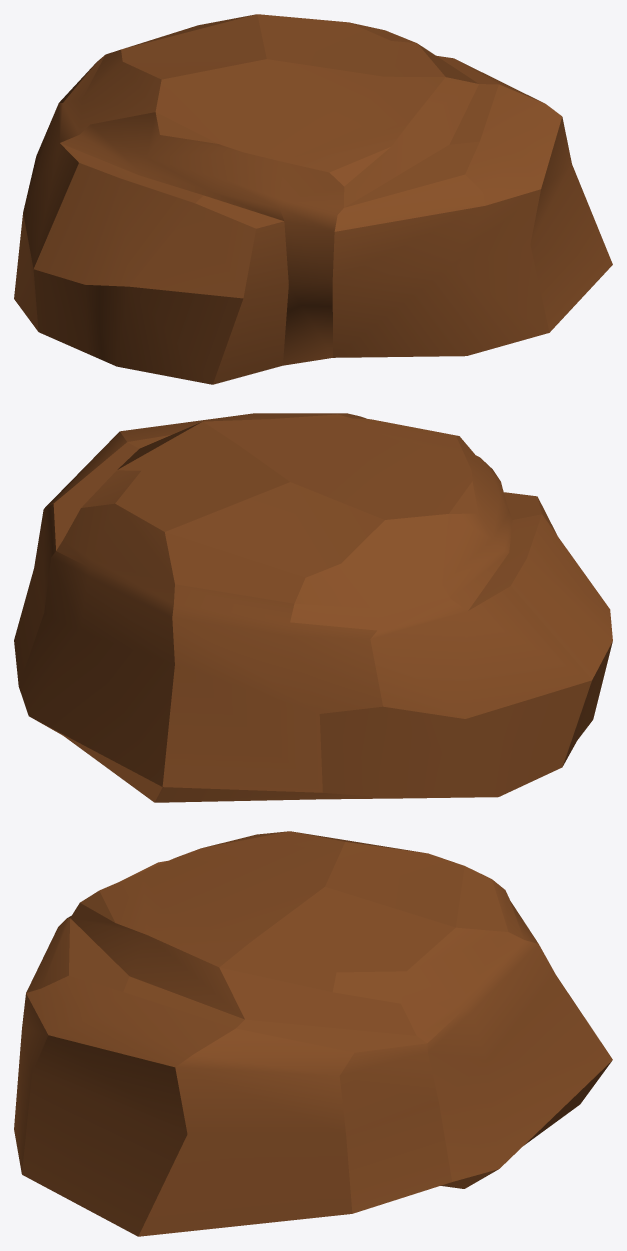
File: rock_large_1.glb
3 views of the same model, one above another, from view 1: azimuth 30°, elevation 25°; view 2: azimuth 150°, elevation 25°; view 3: azimuth 270°, elevation 25° (orthographic). The views are drawn at different scales.
Parts seen in each view (by area): view 1: Rock_Large_1; view 2: Rock_Large_1; view 3: Rock_Large_1.
Part boxes in pixels (left/top/right/bottom): Rock_Large_1: left=14, top=14, right=612, bottom=384; Rock_Large_1: left=14, top=413, right=612, bottom=802; Rock_Large_1: left=14, top=831, right=612, bottom=1236.
Size of the model in its own units: 7.67 by 3.29 by 7.33.
Materials: 1 (1 with a texture image).
